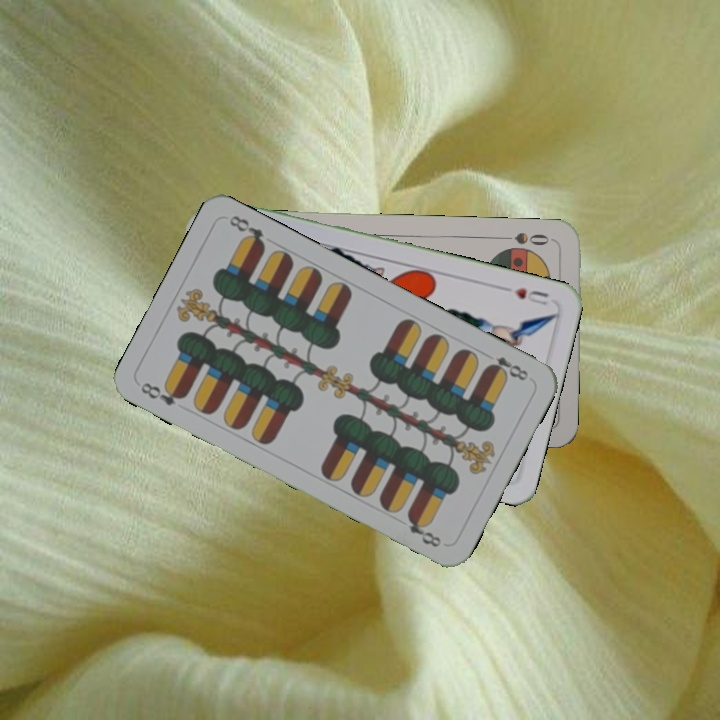E8: (479, 348, 531, 384), (136, 378, 189, 409)
HU: (510, 283, 551, 309)
SO: (498, 228, 557, 249)
